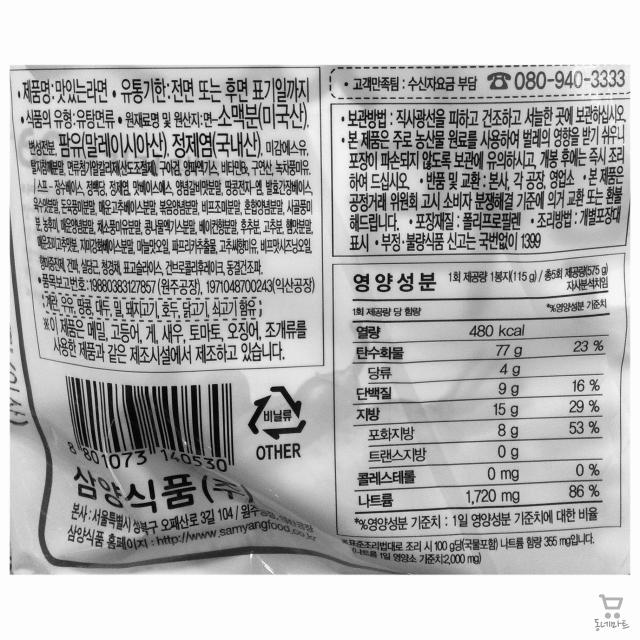Nutrition Label: (324, 246, 631, 575)
